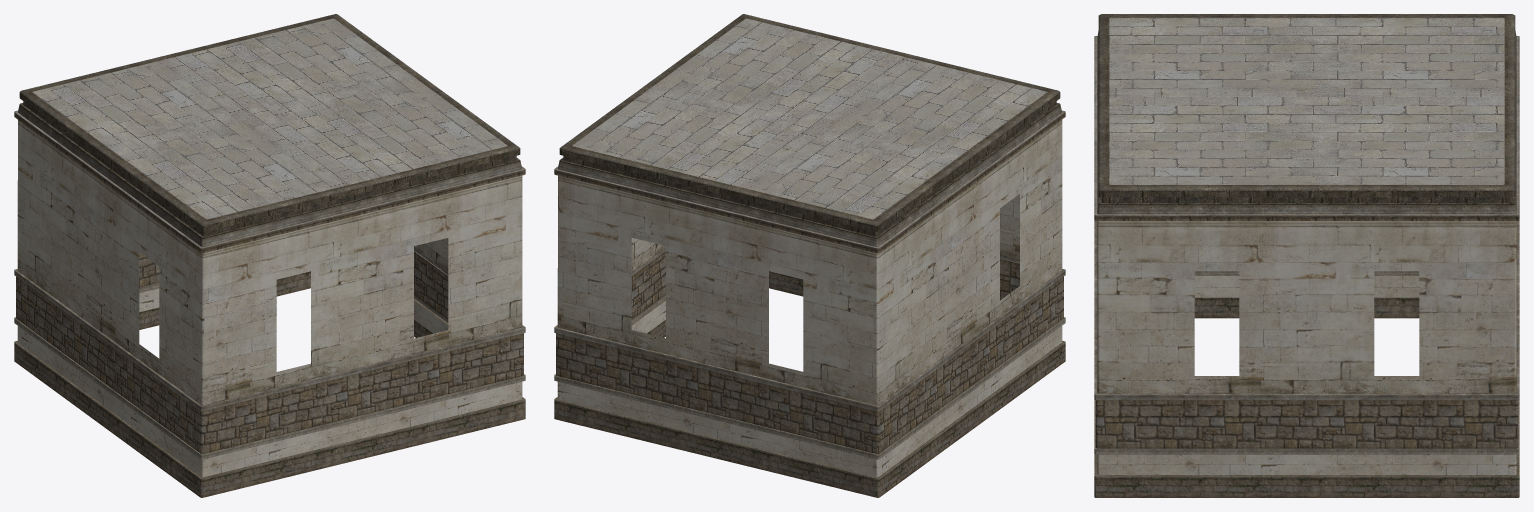
File: Tower8.fbx
3 renders of one model, left to right at view 1: azimuth 30°, elevation 25°; view 2: azimuth 150°, elevation 25°; view 3: azimuth 270°, elevation 25°, orthographic. The views are drawn at different scales.
Parts seen in each view (by area): view 1: LV_Campagna_Uni_CityHTwrSp03_SM_CJH; view 2: LV_Campagna_Uni_CityHTwrSp03_SM_CJH; view 3: LV_Campagna_Uni_CityHTwrSp03_SM_CJH.
Part boxes in pixels (x1,y1,x2,y2): LV_Campagna_Uni_CityHTwrSp03_SM_CJH: (14,14,525,497); LV_Campagna_Uni_CityHTwrSp03_SM_CJH: (554,14,1065,497); LV_Campagna_Uni_CityHTwrSp03_SM_CJH: (1094,14,1519,497).
Size of the model in its own units: 2.84 by 2.26 by 2.84.
